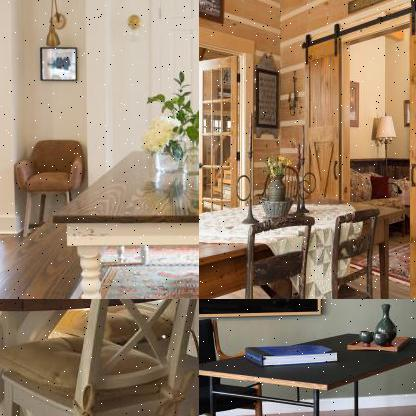table: (0, 299, 198, 415), (50, 147, 198, 298), (199, 195, 411, 298), (199, 327, 415, 415)
